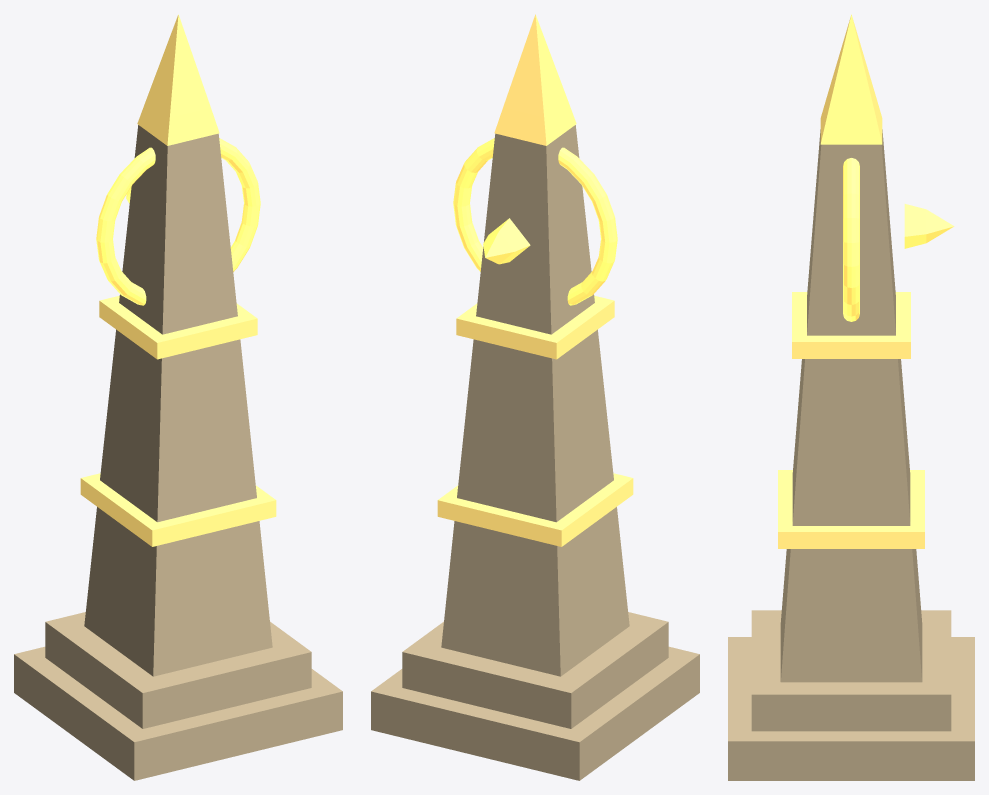
Rendered from desert_obelisk.glb.
3 views of the same model, side by side, from view 1: azimuth 30°, elevation 25°; view 2: azimuth 150°, elevation 25°; view 3: azimuth 270°, elevation 25° (orthographic). The views are drawn at different scales.
Visible parts, largest first — view 1: DesertSandstoneBody, DesertGoldTrim, DesertSolarAmber; view 2: DesertSandstoneBody, DesertGoldTrim, DesertSolarAmber; view 3: DesertSandstoneBody, DesertGoldTrim, DesertSolarAmber.
Part boxes in pixels (left/top/right/bottom): DesertSandstoneBody: left=14, top=125, right=342, bottom=780; DesertGoldTrim: left=80, top=14, right=276, bottom=546; DesertSolarAmber: left=96, top=138, right=260, bottom=305; DesertSandstoneBody: left=371, top=125, right=699, bottom=780; DesertGoldTrim: left=437, top=14, right=633, bottom=546; DesertSolarAmber: left=453, top=138, right=617, bottom=305; DesertSandstoneBody: left=728, top=129, right=974, bottom=780; DesertGoldTrim: left=778, top=14, right=924, bottom=548; DesertSolarAmber: left=843, top=158, right=954, bottom=321.
Size of the model in its own units: 1.58 by 5.05 by 1.58.
